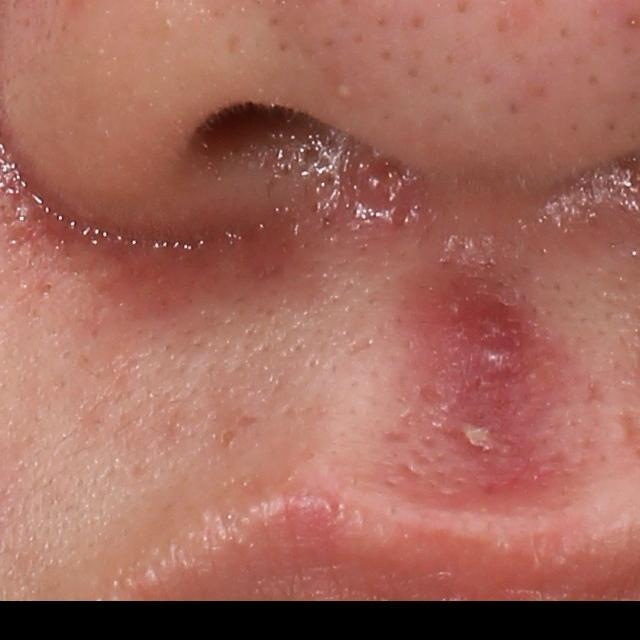atrophic_scar: (418, 379, 448, 408), (235, 412, 263, 435), (221, 428, 239, 449)
comedo: (39, 281, 56, 297)
papule: (436, 281, 525, 387)
pustule: (453, 418, 500, 451)
